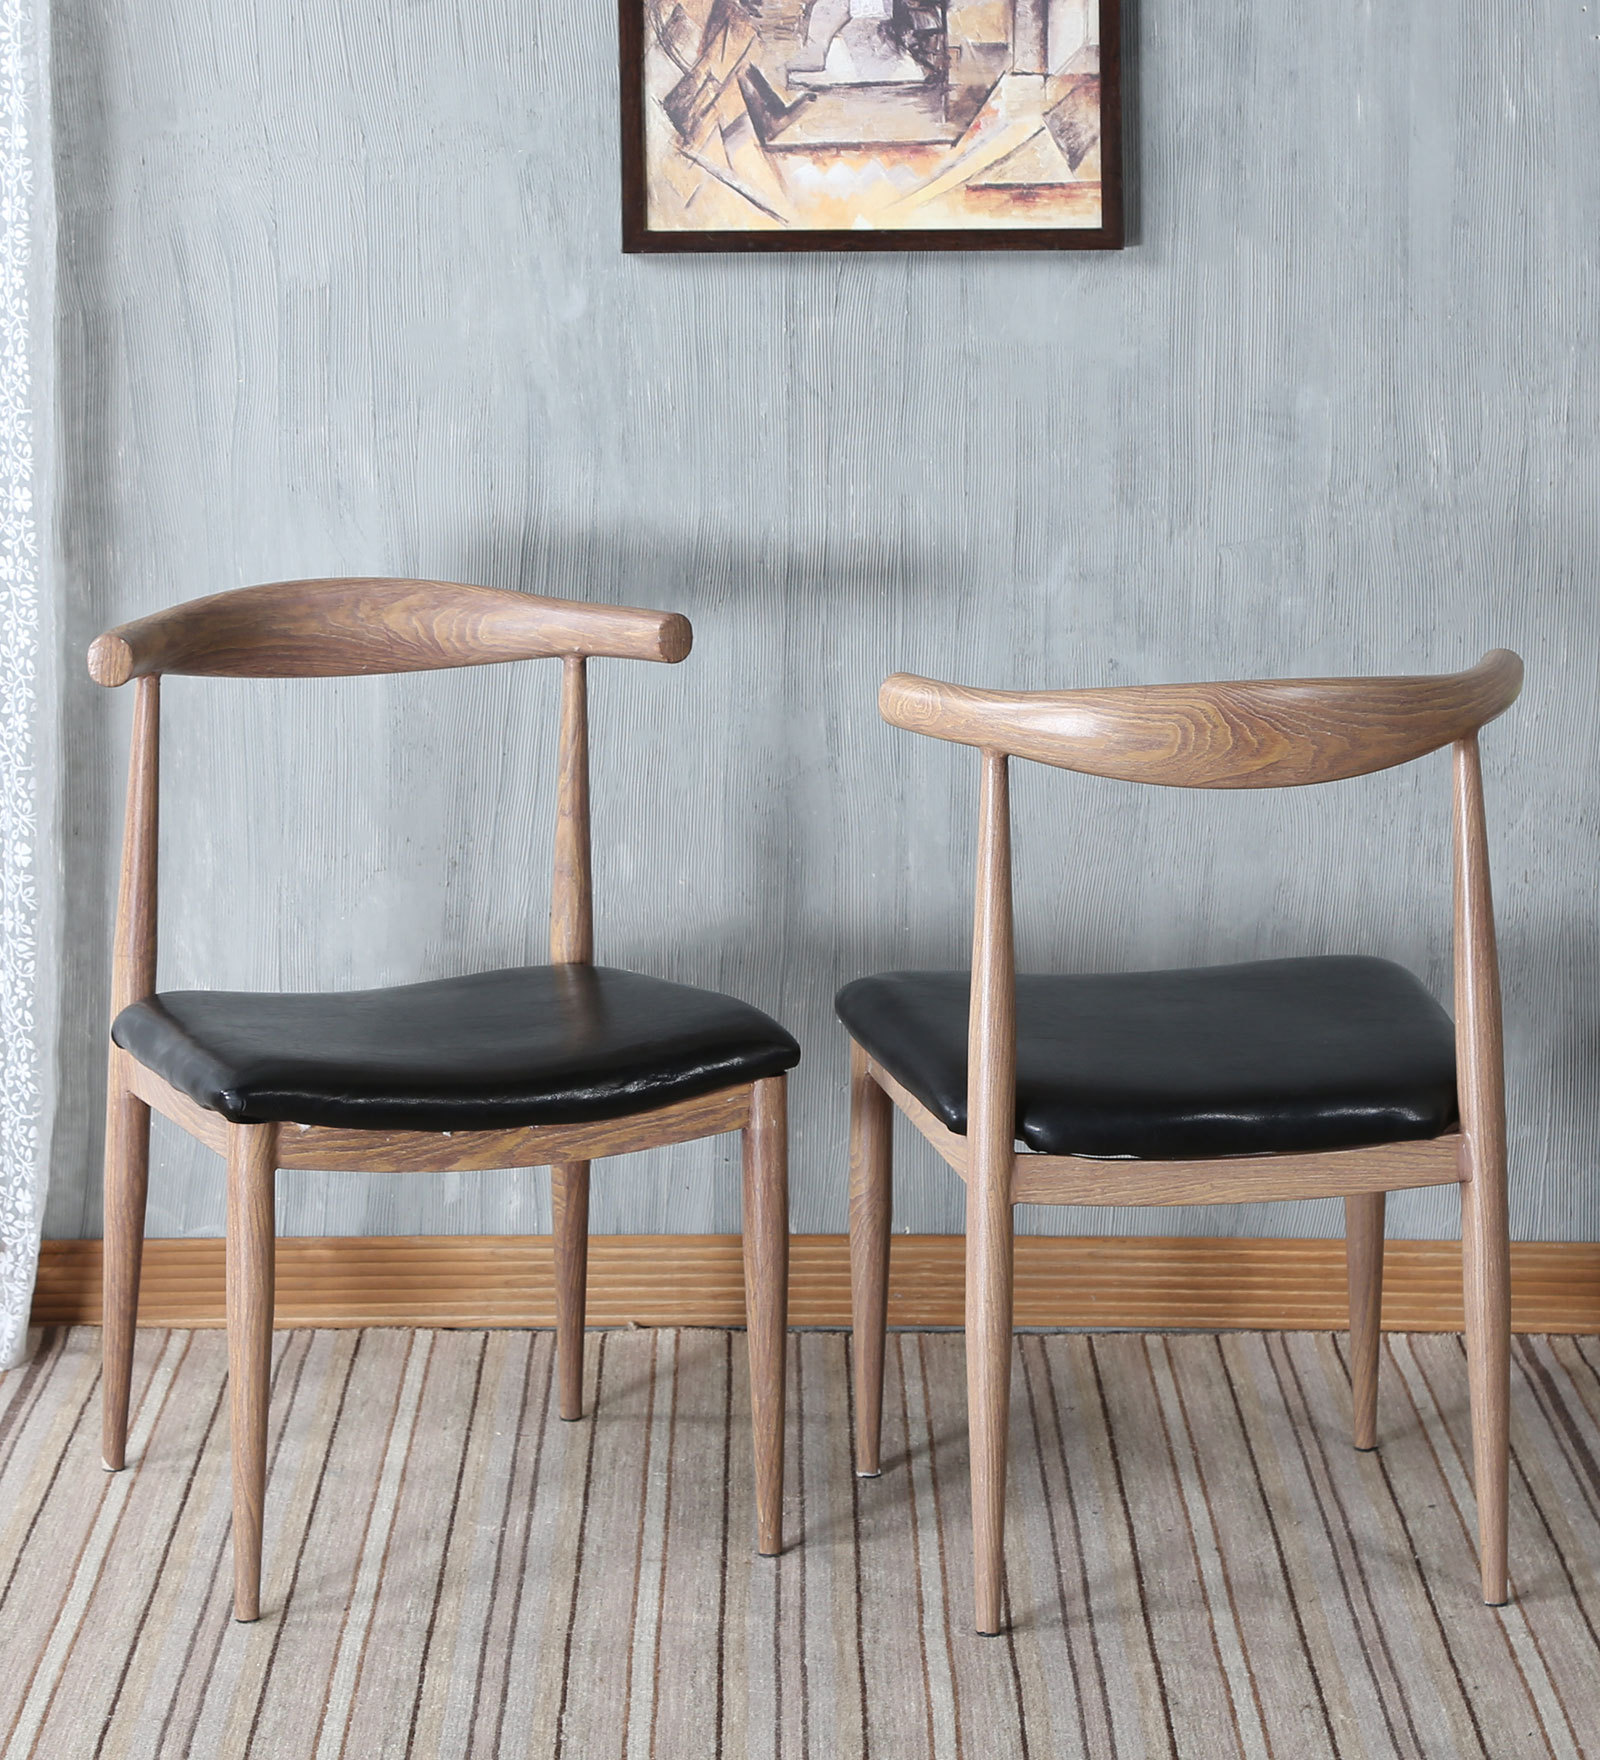Sherman Metal Chair (Set of 2) in Wooden Finish by Bohemiana: (38, 483, 829, 1640), (858, 455, 1543, 1685)
